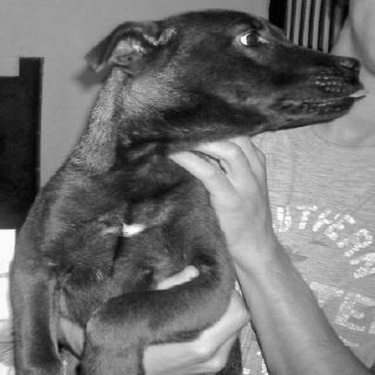dog: (9, 5, 363, 372)
